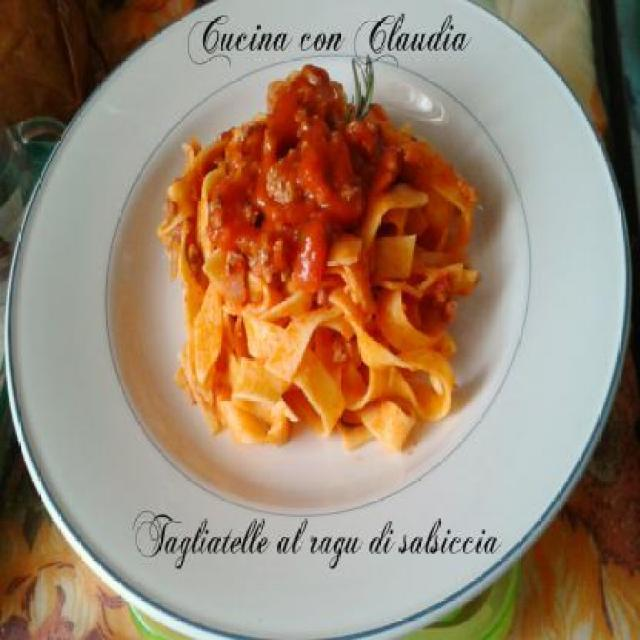Pasta al ragu: (169, 41, 545, 467)
